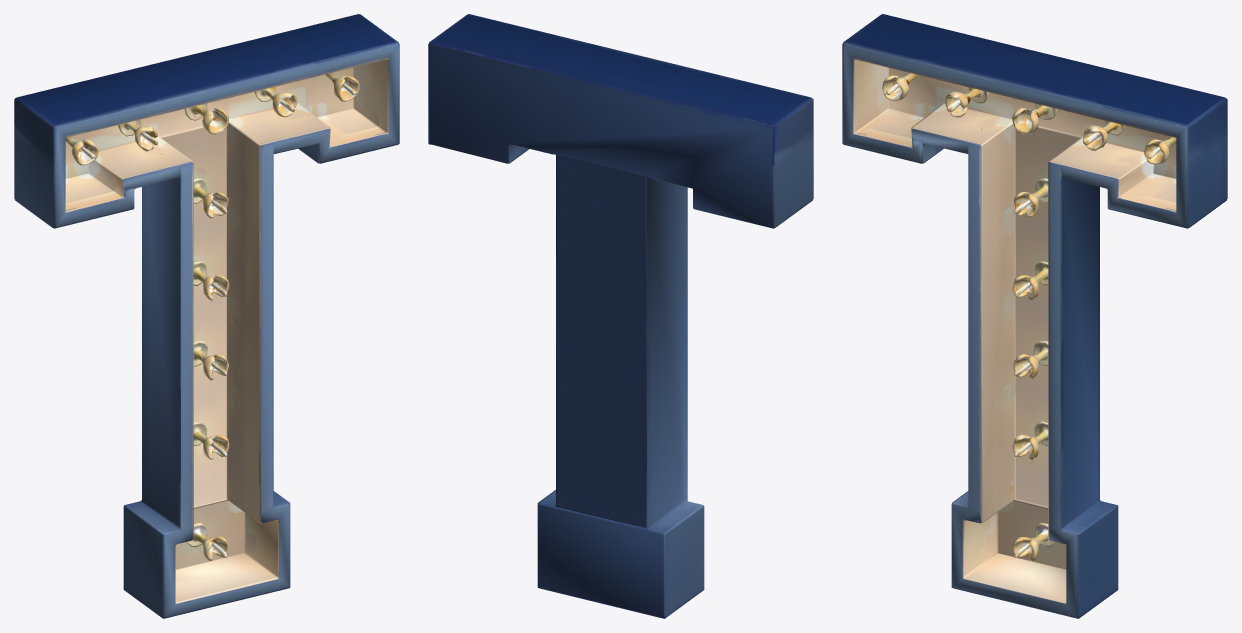
The model's file is Letter_t.glb.
3 views of the same model, side by side, from view 1: azimuth 30°, elevation 25°; view 2: azimuth 150°, elevation 25°; view 3: azimuth 330°, elevation 25° (orthographic).
Parts seen in each view (by area): view 1: Mesh_0.001; view 2: Mesh_0.001; view 3: Mesh_0.001.
Part boxes in pixels (x1,y1,x2,y2): Mesh_0.001: (14, 14, 399, 618); Mesh_0.001: (428, 14, 813, 618); Mesh_0.001: (842, 14, 1227, 618).
Bounding box in the file's own units: 0.6365 × 0.9144 × 0.1296.
Materials: 1 (1 with a texture image).
